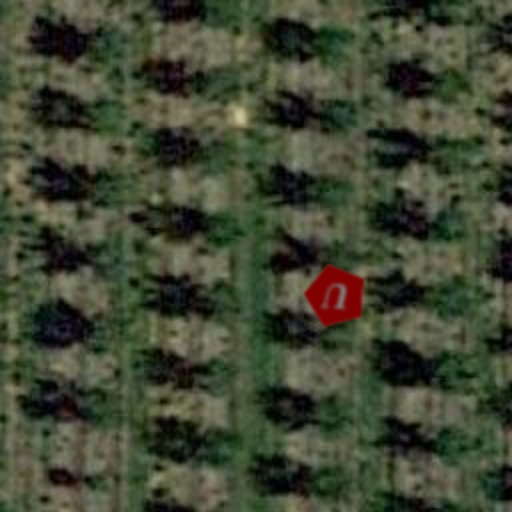pentagon: (300, 260, 372, 332)
